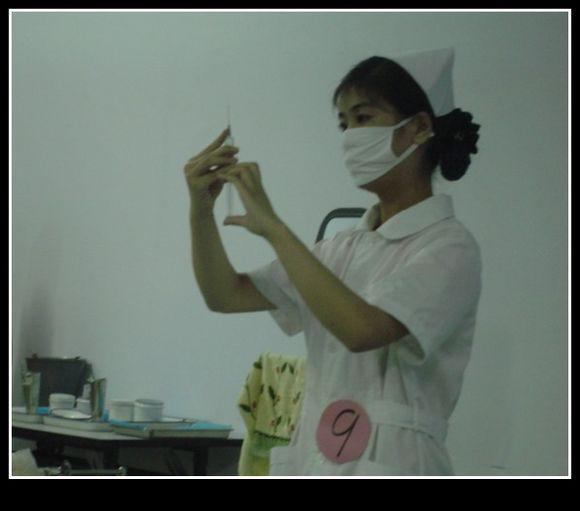OK: (334, 102, 416, 184)
